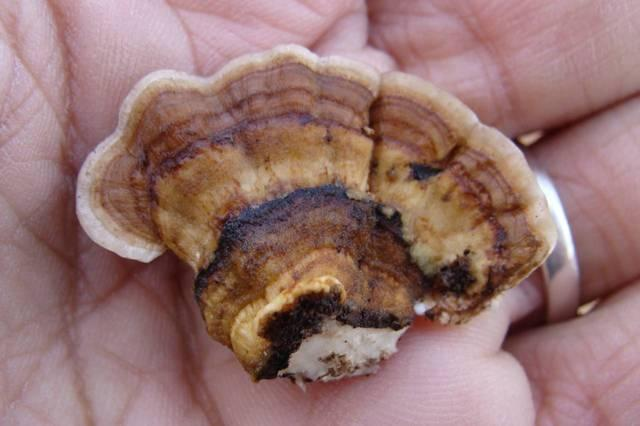poisonous_mushroom: (73, 42, 558, 387)
